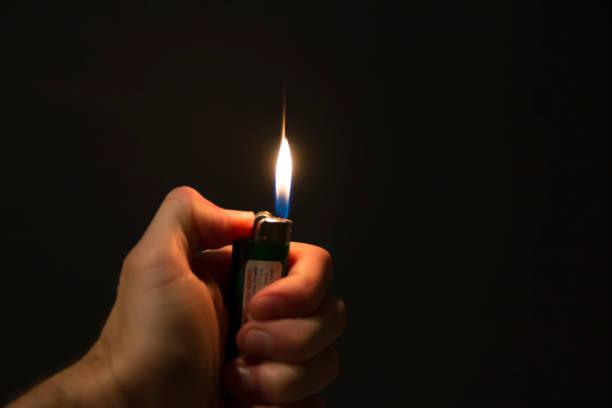Fire: (272, 92, 295, 219)
